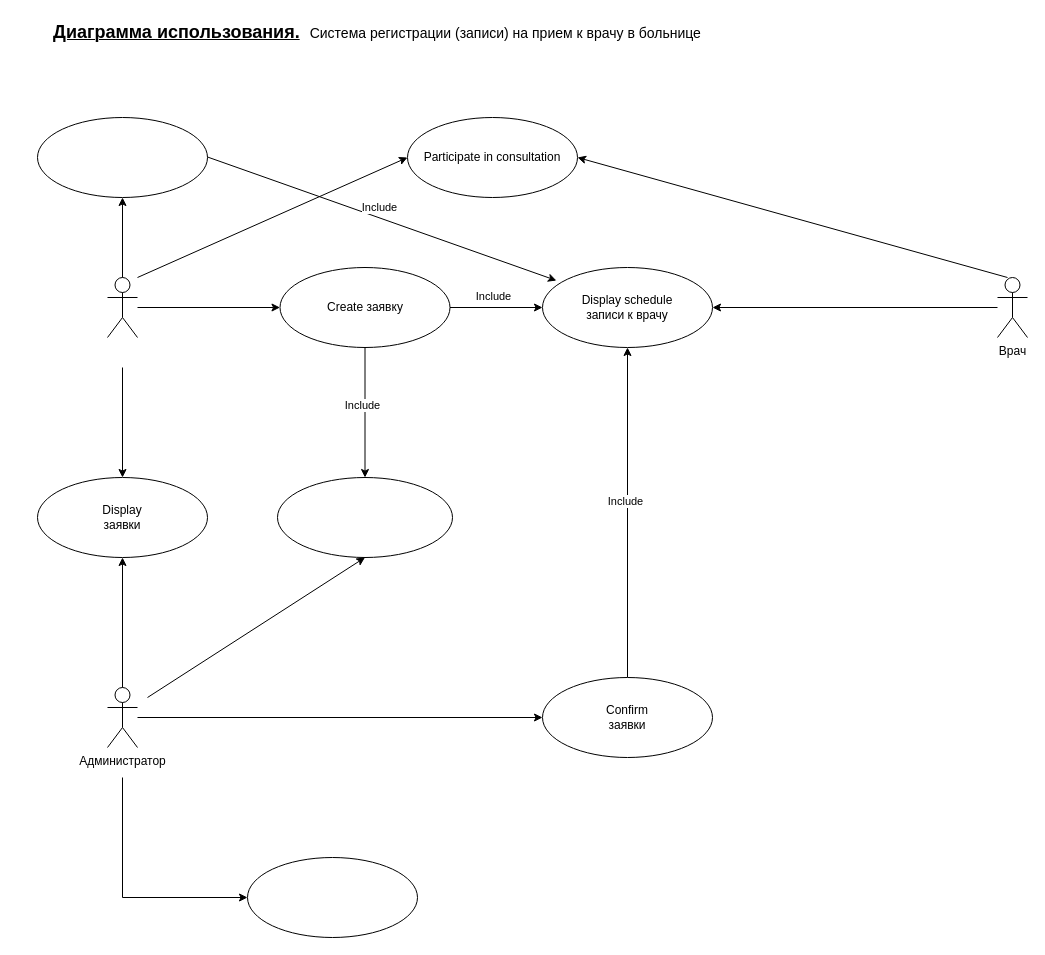
This 1045x955 diagram has some shape labels left out. Each missing label, with the box of its shape:
Contact to client on the phone: (246, 856, 418, 938)
Correct schedule записи к врачу: (276, 476, 452, 558)
Correct заявки: (36, 116, 208, 198)
Клиент: (106, 276, 138, 338)
